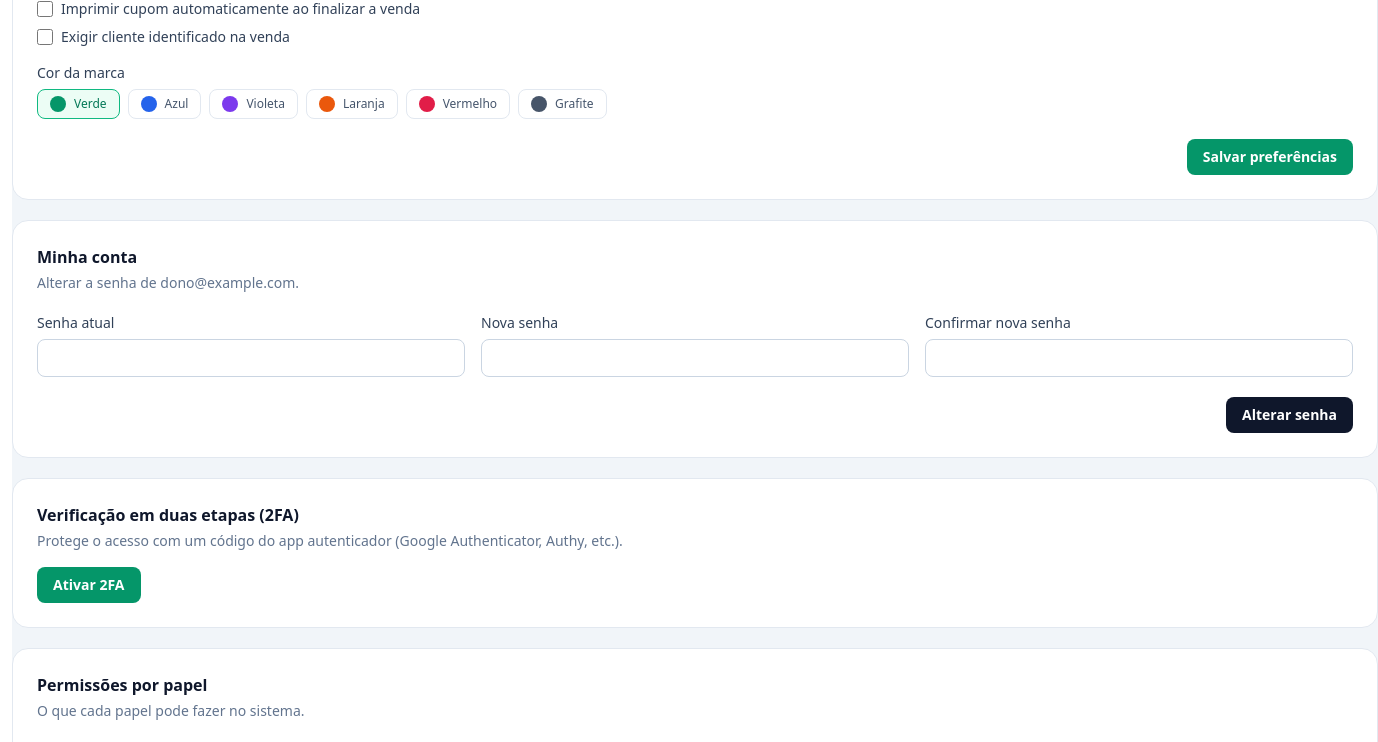
Settings › altera a senha com sucesso quando os campos conferem
(page scrolled)
In the password field labelled "Senha atual": (251, 358) [37,339,465,377], type "atual123"
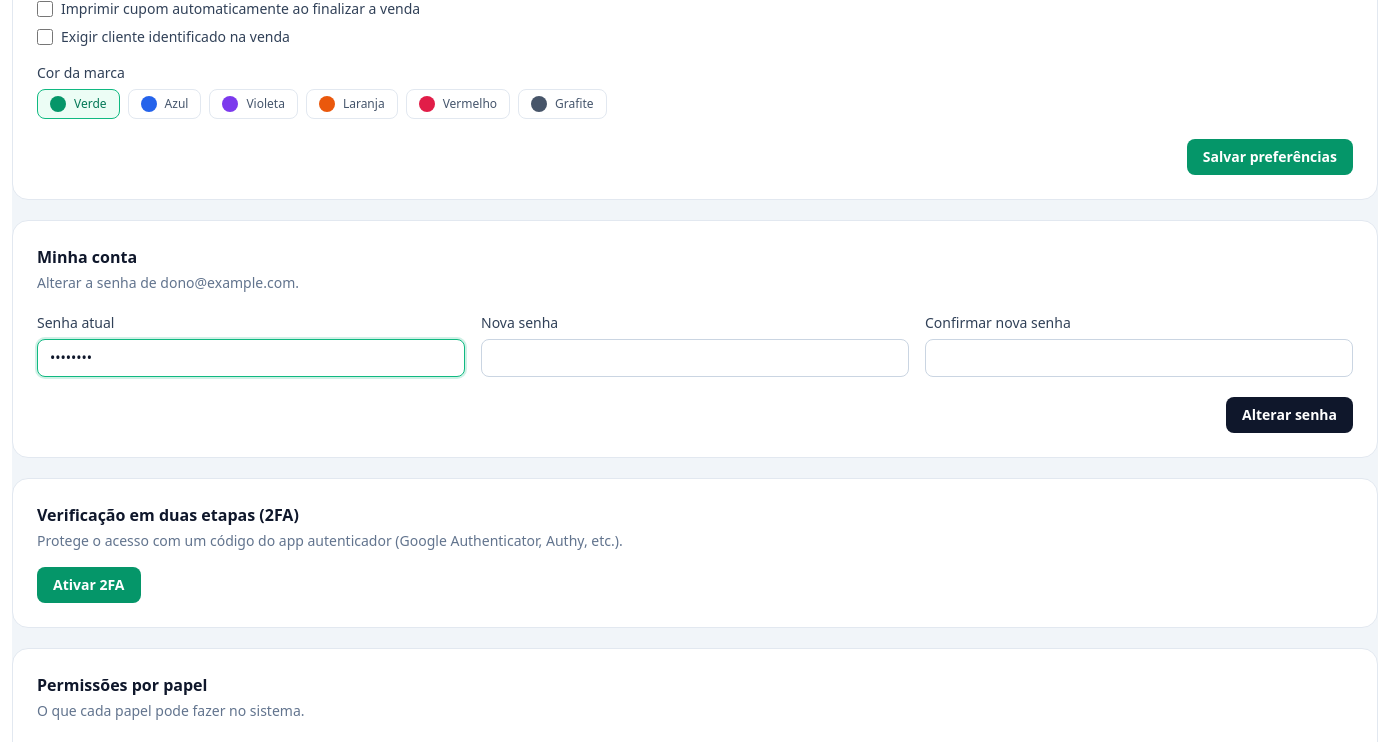
In the password field labelled "Nova senha": (695, 358) [481,339,909,377], type "novaSenha123"
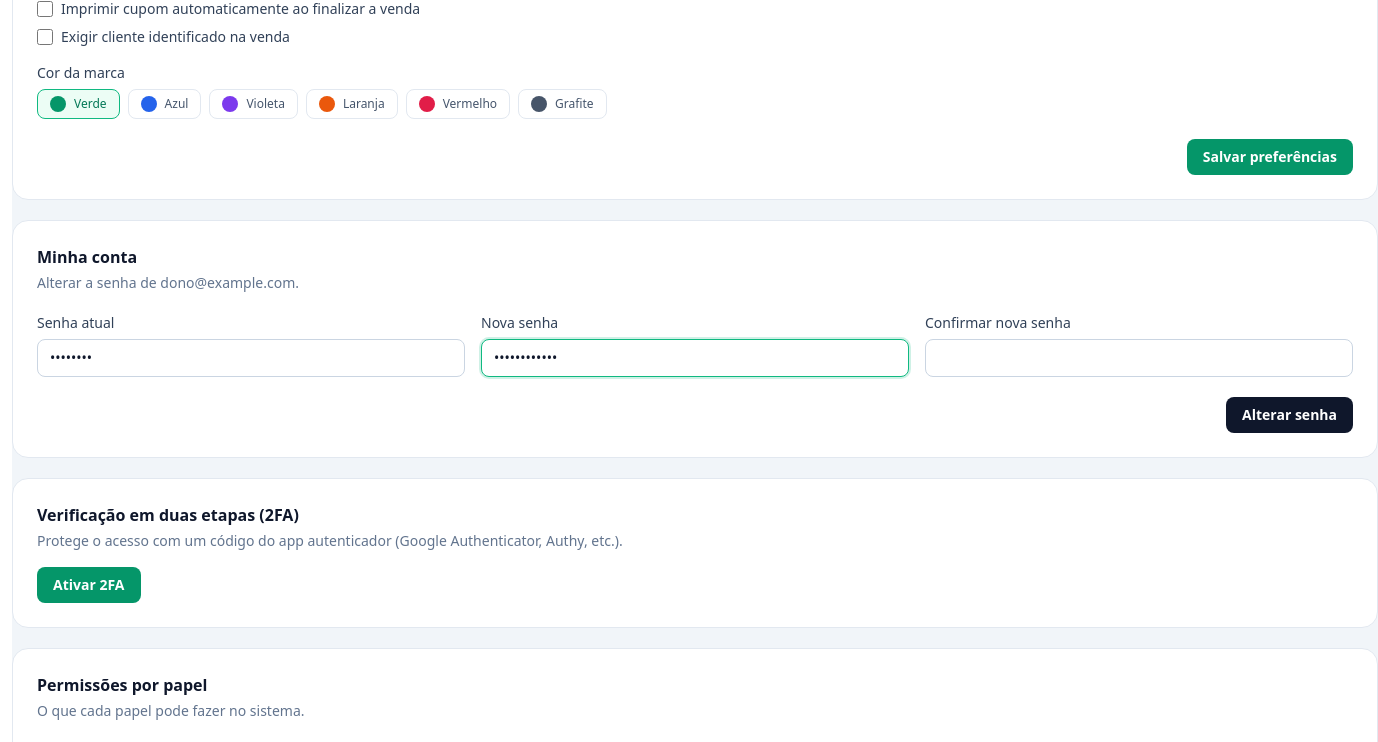
In the password field labelled "Confirmar nova senha": (1139, 358) [925,339,1353,377], type "novaSenha123"
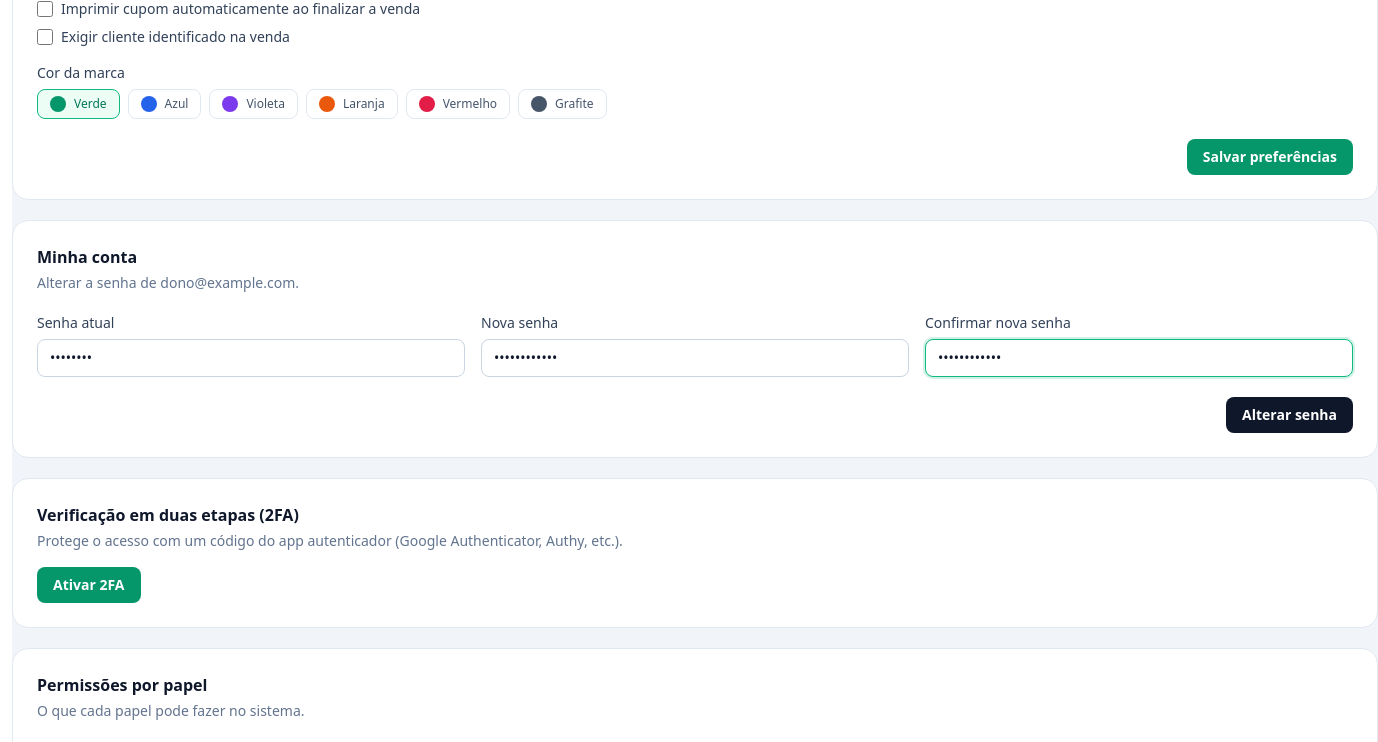
Click the button "Alterar senha": (1290, 415) [1226,397,1353,433]
(page scrolled)
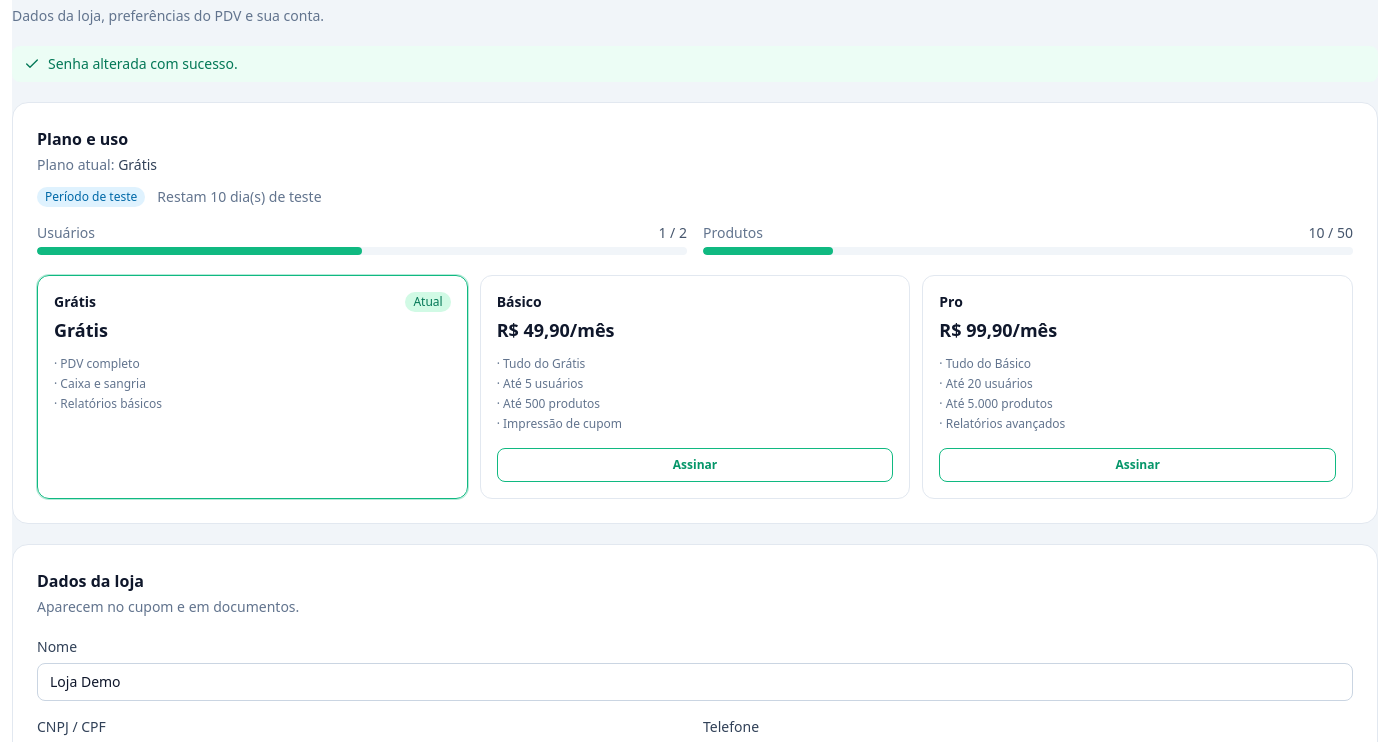
Result: the text "Senha alterada com sucesso." is shown at [12,46,1377,82]
